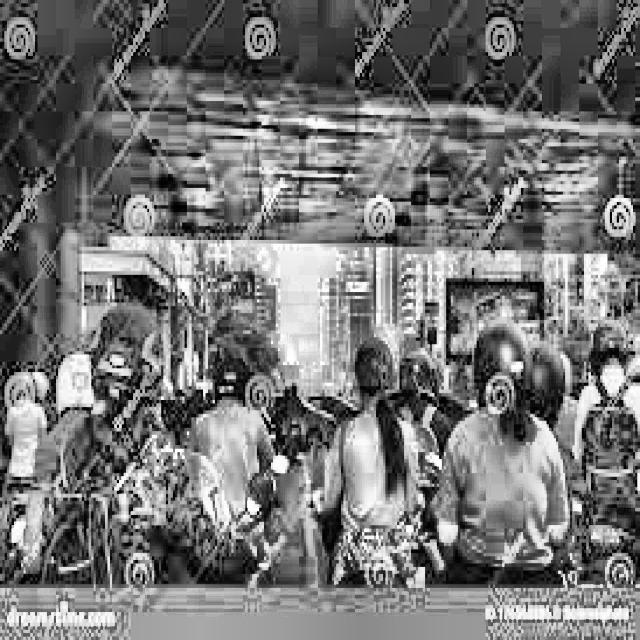Helmet: (92, 292, 166, 417), (462, 315, 542, 422), (580, 306, 640, 382), (207, 333, 258, 412), (349, 324, 396, 406), (50, 345, 103, 417), (397, 340, 449, 408)
